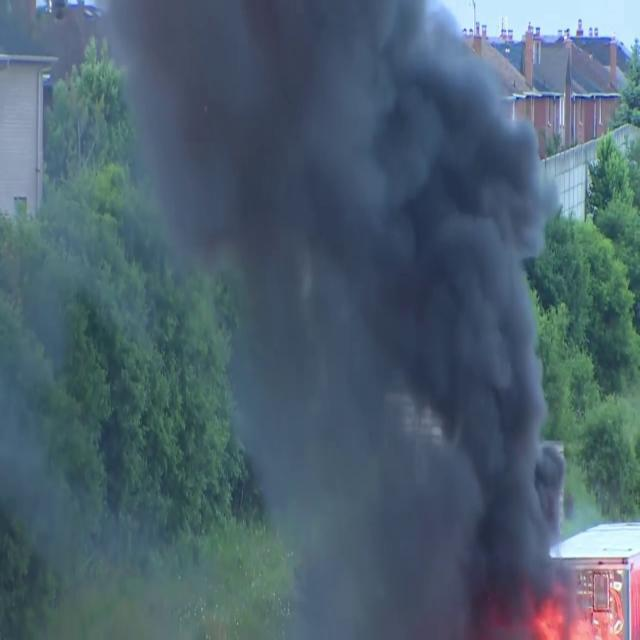Fire: (530, 592, 593, 640)
Smoke: (110, 1, 570, 629), (0, 212, 99, 616)
